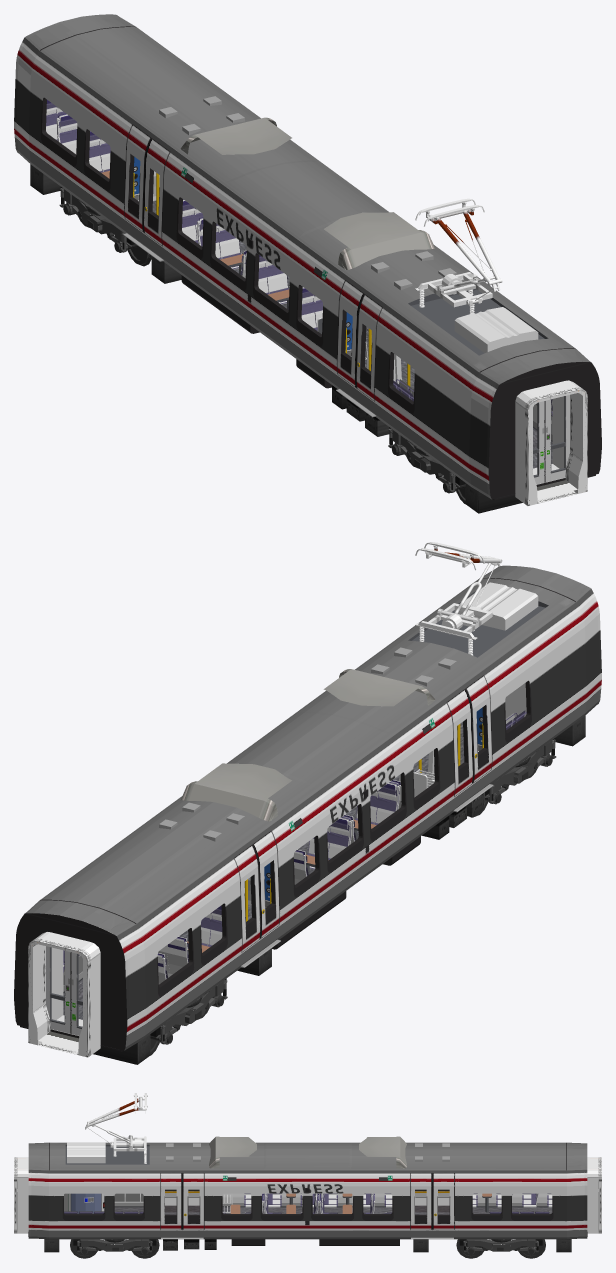
File: module_express_panto_6m.obj
3 views of the same model, one above another, from view 1: azimuth 30°, elevation 25°; view 2: azimuth 150°, elevation 25°; view 3: azimuth 270°, elevation 25° (orthographic). The views are drawn at different scales.
Visible parts, largest first — view 1: m_side, m_jibung, m_aircon, m_mak, m_backout, m_habu, m_panto6m, m_dt71, m_door_RB, m_door_RF, m_foldingchair, m_oscarchair (+4 smaller); view 2: m_side, m_jibung, m_aircon, m_mak, m_backout, m_habu, m_door_RF, m_door_RB, m_dt71, m_panto6m, m_oscarchair, m_interiors (+4 smaller); view 3: m_side, m_jibung, m_aircon, m_dt71, m_mak, m_habu, m_door_LF, m_door_LB, m_floor, m_oscarchair, m_foldingchair, m_heater (+6 smaller).
Boxes of the visible parts, x1=… form: m_side: x1=14, y1=15, x2=601, y2=499; m_jibung: x1=25, y1=14, x2=590, y2=384; m_aircon: x1=159, y1=96, x2=538, y2=352; m_mak: x1=515, y1=380, x2=587, y2=505; m_backout: x1=492, y1=362, x2=597, y2=498; m_habu: x1=30, y1=164, x2=595, y2=513; m_panto6m: x1=415, y1=198, x2=502, y2=313; m_dt71: x1=59, y1=187, x2=465, y2=504; m_door_RB: x1=125, y1=140, x2=358, y2=400; m_door_RF: x1=143, y1=153, x2=376, y2=413; m_foldingchair: x1=46, y1=100, x2=552, y2=433; m_oscarchair: x1=182, y1=199, x2=289, y2=309; m_side: x1=14, y1=567, x2=601, y2=1050; m_jibung: x1=25, y1=565, x2=590, y2=935; m_aircon: x1=159, y1=582, x2=538, y2=841; m_mak: x1=28, y1=932, x2=100, y2=1057; m_backout: x1=18, y1=913, x2=123, y2=1049; m_habu: x1=20, y1=715, x2=585, y2=1064; m_door_RF: x1=258, y1=691, x2=491, y2=951; m_door_RB: x1=240, y1=704, x2=473, y2=964; m_dt71: x1=150, y1=738, x2=556, y2=1055; m_panto6m: x1=415, y1=542, x2=502, y2=655; m_oscarchair: x1=244, y1=782, x2=399, y2=905; m_interiors: x1=46, y1=769, x2=434, y2=1035; m_side: x1=28, y1=1142, x2=587, y2=1239; m_jibung: x1=28, y1=1142, x2=587, y2=1170; m_aircon: x1=67, y1=1136, x2=449, y2=1168; m_dt71: x1=70, y1=1239, x2=545, y2=1258; m_mak: x1=14, y1=1157, x2=601, y2=1233; m_habu: x1=28, y1=1232, x2=587, y2=1252; m_door_LF: x1=160, y1=1183, x2=432, y2=1237; m_door_LB: x1=182, y1=1183, x2=453, y2=1237; m_floor: x1=114, y1=1205, x2=552, y2=1214; m_oscarchair: x1=263, y1=1193, x2=392, y2=1213; m_foldingchair: x1=64, y1=1193, x2=552, y2=1213; m_heater: x1=114, y1=1196, x2=548, y2=1207.
Bounding box in the file's own units: 2.88 × 5.79 × 20.53.
Materials: 29 (29 with a texture image).
